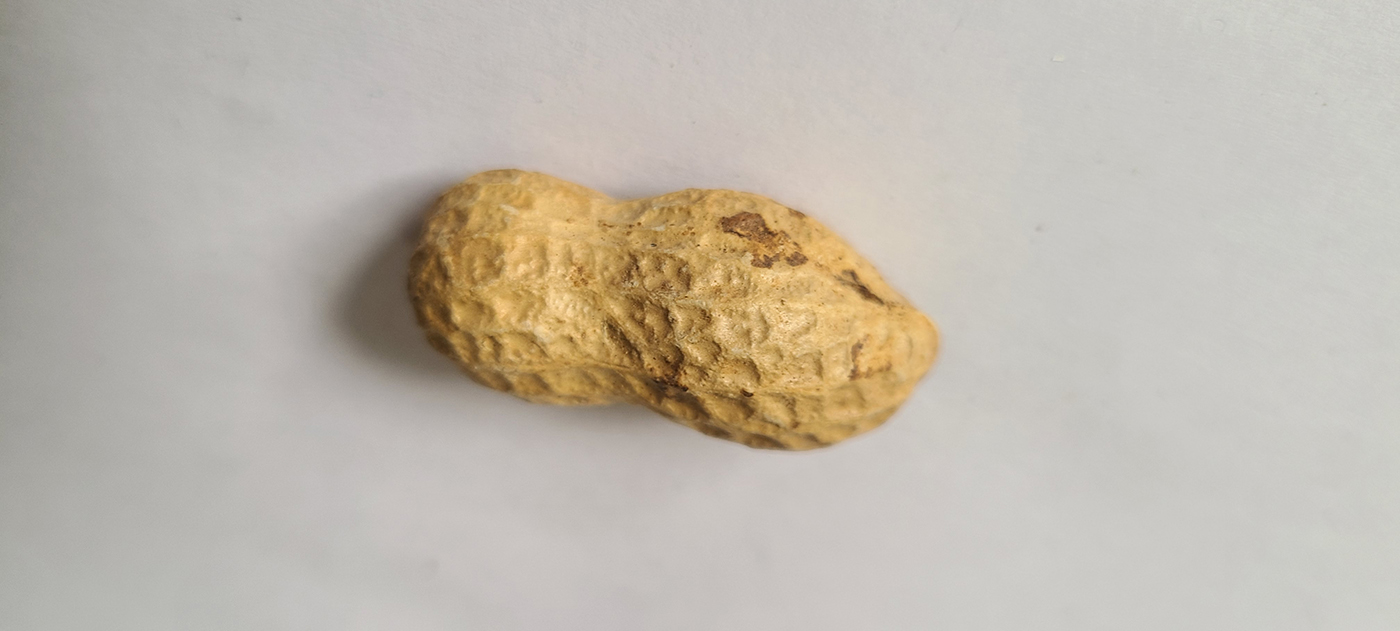h: (402, 166, 939, 451)
